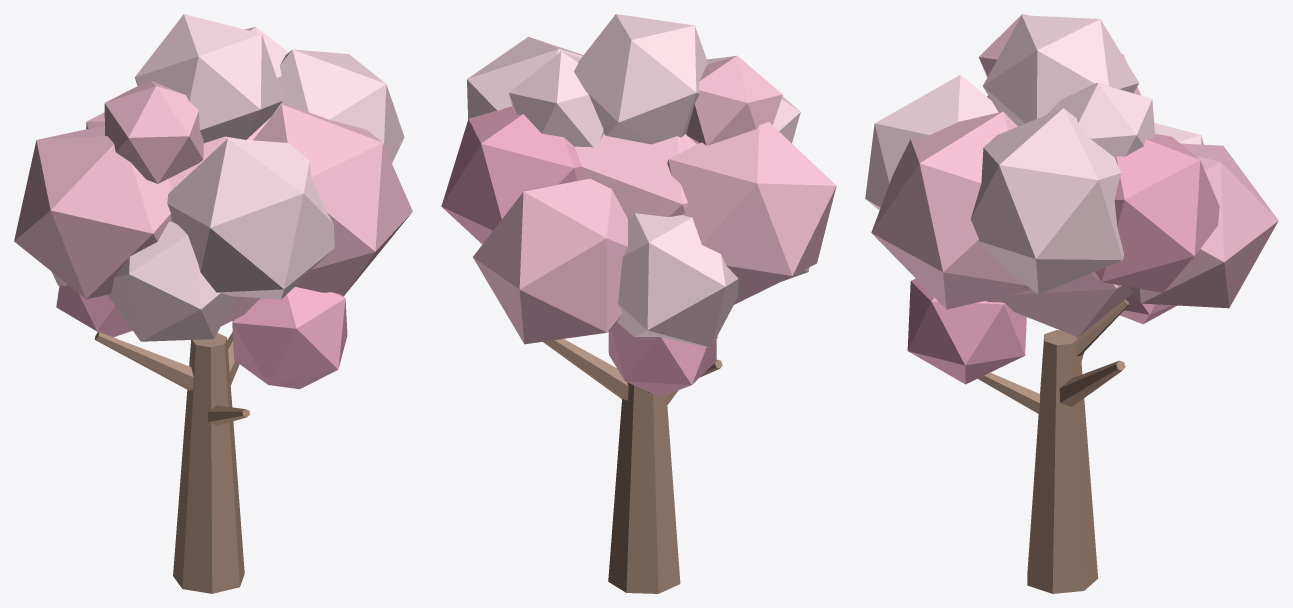
File: sakura-tree.glb
3 renders of one model, left to right at view 1: azimuth 30°, elevation 25°; view 2: azimuth 150°, elevation 25°; view 3: azimuth 270°, elevation 25°, orthographic.
Visible parts, largest first — view 1: LowPoly_CherryBlossomTree; view 2: LowPoly_CherryBlossomTree; view 3: LowPoly_CherryBlossomTree.
Boxes of the visible parts, box(x1,y1,x2,y2) form: LowPoly_CherryBlossomTree: box(14, 14, 412, 593); LowPoly_CherryBlossomTree: box(441, 14, 836, 593); LowPoly_CherryBlossomTree: box(865, 14, 1278, 593).
Size of the model in its own units: 1.57 by 2.31 by 1.55.
